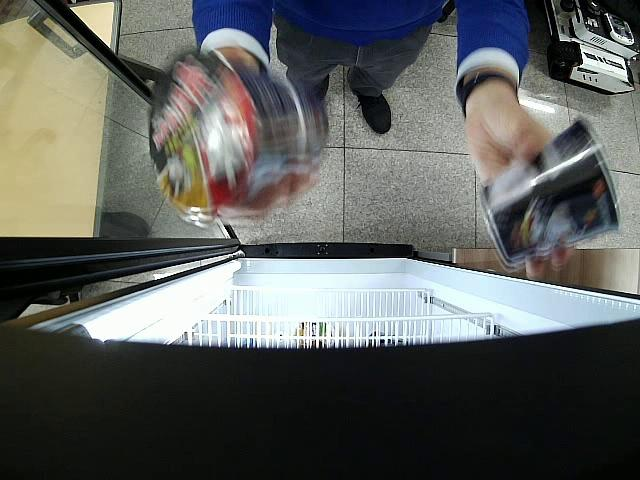00_hand: (465, 105, 573, 279)
08_buldak_S: (150, 49, 329, 225), (480, 118, 620, 270)
